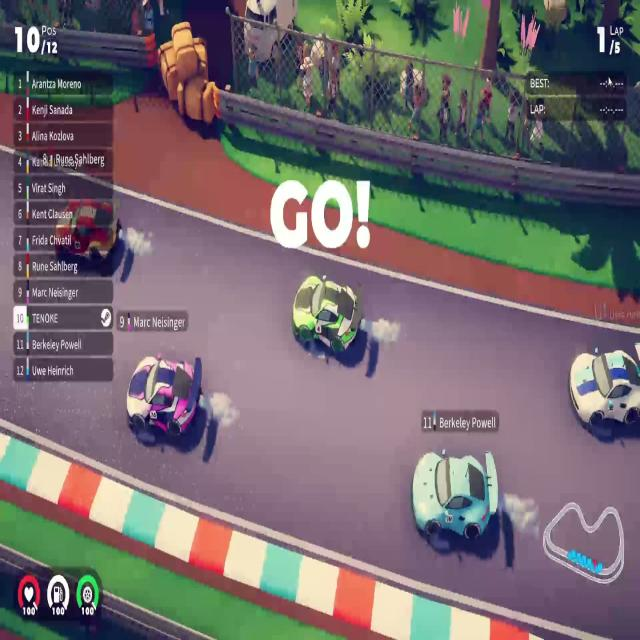car: (411, 448, 498, 544), (126, 352, 203, 441), (291, 273, 363, 355), (569, 348, 639, 432)
